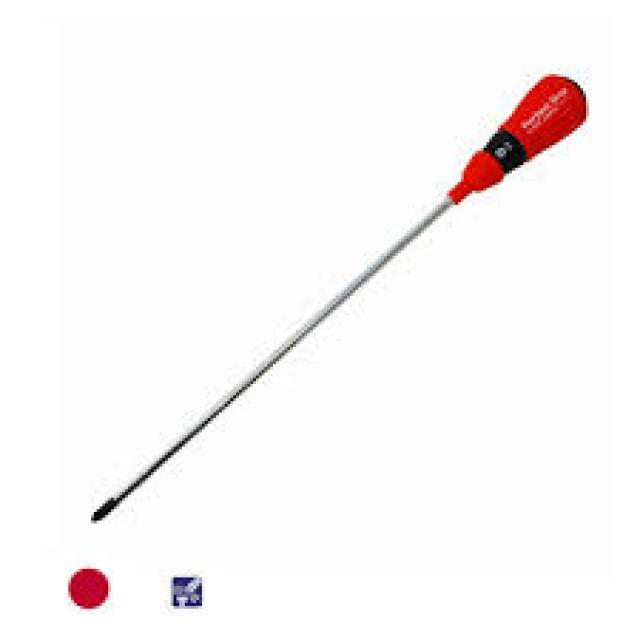screwdriver: (84, 72, 590, 528)
